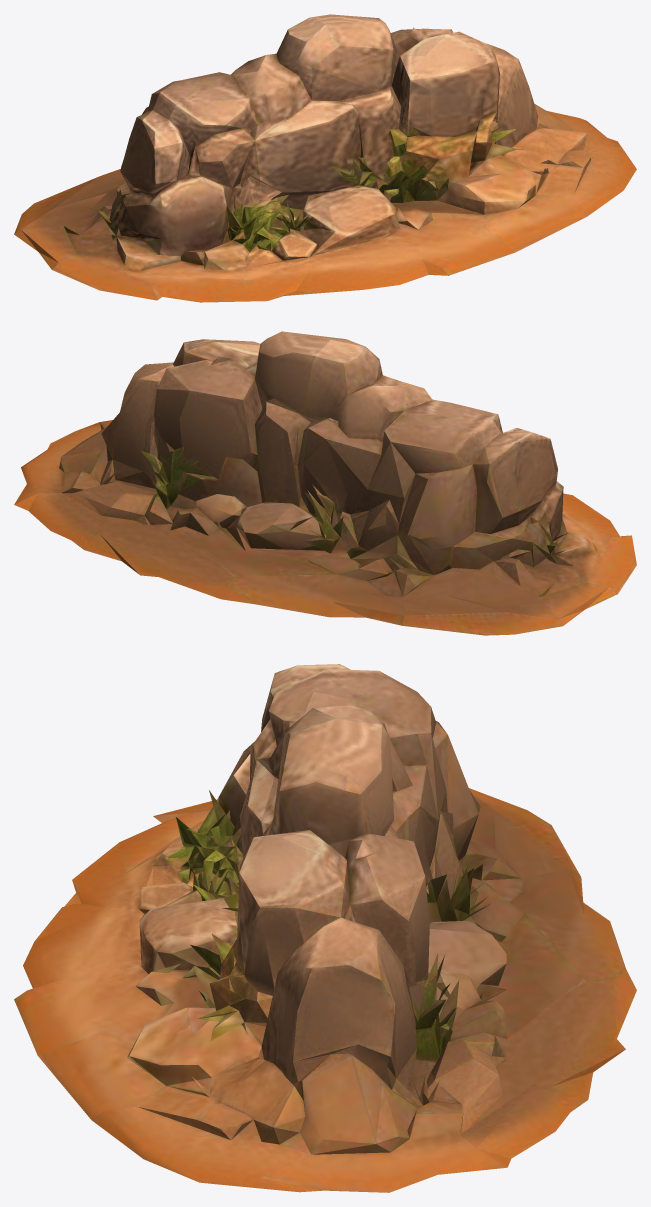
File: west_stonewall_short.glb
The picture shows the model from 3 angles, top to bottom: view 1: azimuth 30°, elevation 25°; view 2: azimuth 150°, elevation 25°; view 3: azimuth 270°, elevation 25°; orthographic projection. The views are drawn at different scales.
Parts seen in each view (by area): view 1: mesh_node; view 2: mesh_node; view 3: mesh_node.
Boxes of the visible parts, x1,y1,x2,y2 form: mesh_node: [14, 14, 636, 302]; mesh_node: [14, 331, 636, 635]; mesh_node: [14, 664, 636, 1192].
Bounding box in the file's own units: 1.9 × 0.5838 × 1.22.
1 material, 1 textured.
